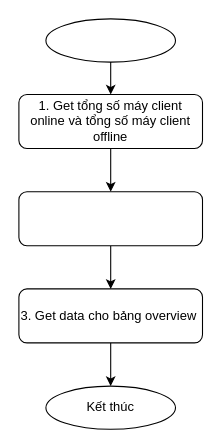
Some shapes in this 221 by 448 pixel diagram are drawn without their labels. The shapes that lost their labels are listed below. From the top down, each one's centre as x and y in pixels, then its label:
At point (110, 40): "Bắt đầu".
At point (110, 218): "2. Get tổng số tool đang hoạt động và tổng số tool ngừng hoạt động".
